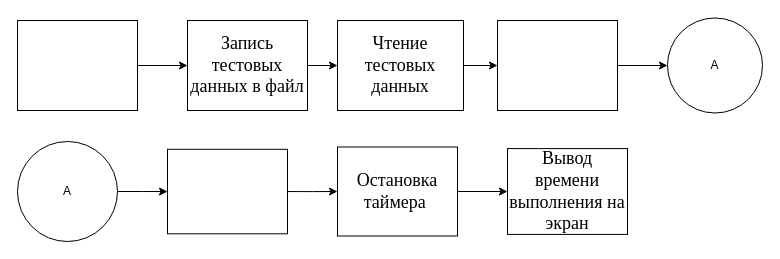
The diagram is 780 pixels wide and 259 high, and some of its shapes have lost their labels. Each missing label, with the centre of its shape:
"Выполнение умножения или сложения матриц" goes at (x=227, y=191).
"Генерация тестовых данных" goes at (x=77, y=65).
"Начало отсчета времени выполнения" goes at (x=557, y=65).
